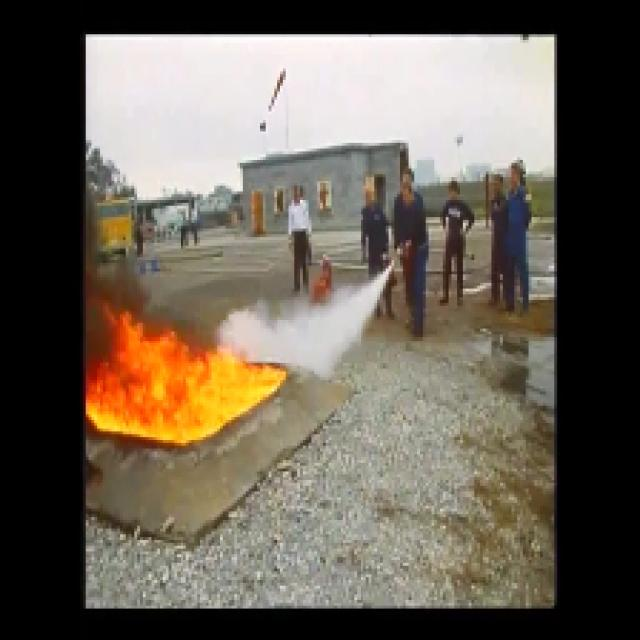fire: (95, 324, 265, 440)
